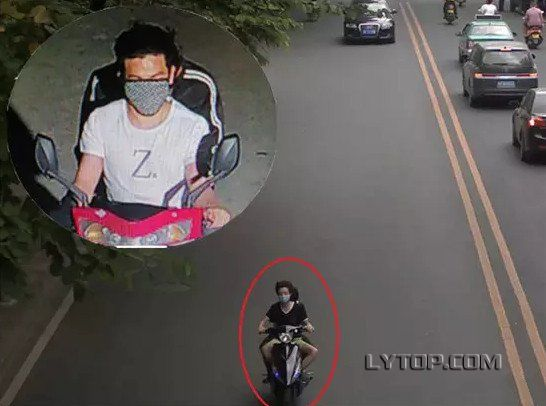face_mask: (124, 55, 171, 117), (278, 288, 290, 304)
